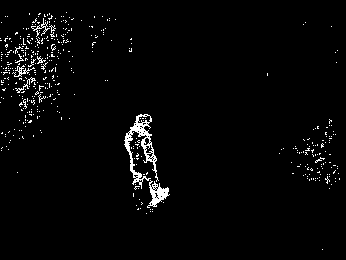person: (124, 112, 170, 214)
